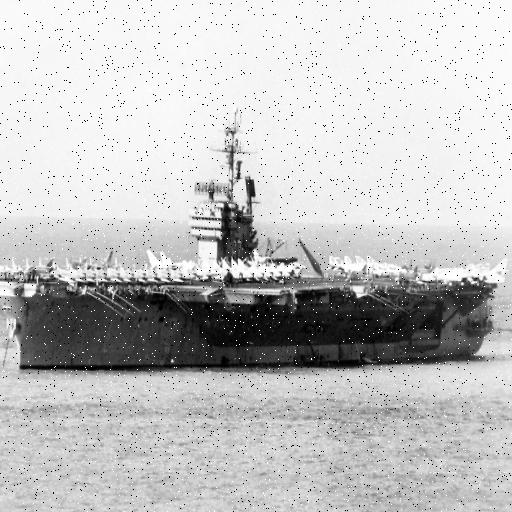Portanaves: (1, 96, 512, 375)
